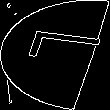L_E: (8, 35, 102, 75)
